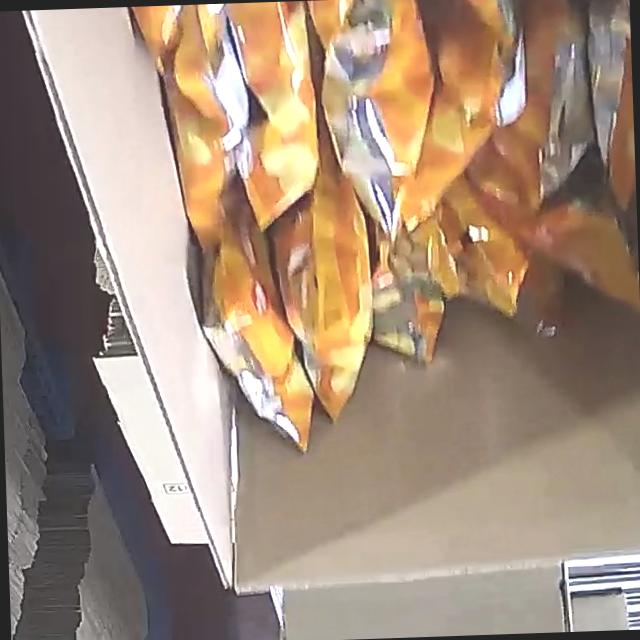cheese: (102, 0, 640, 461)
